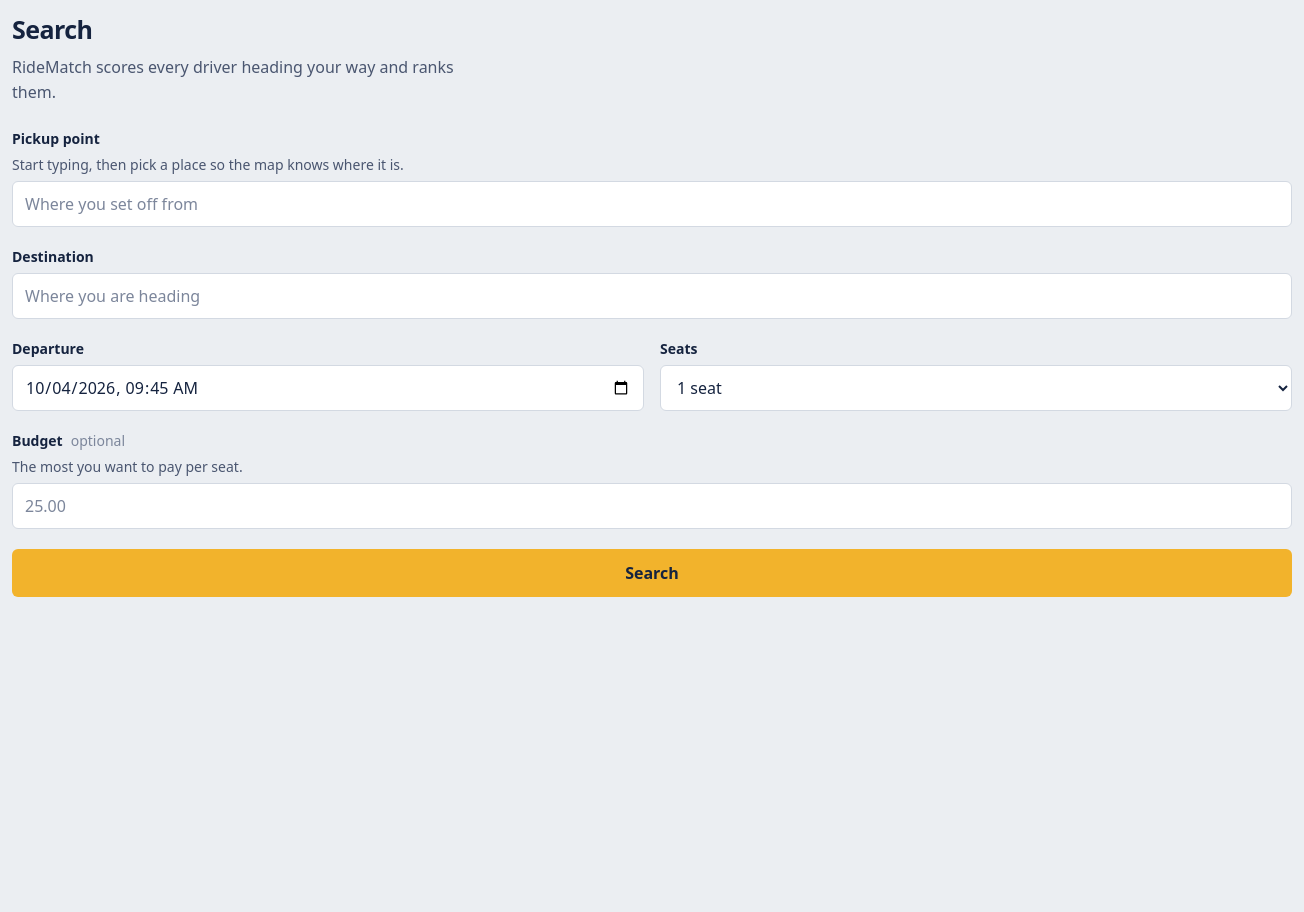
searching for a ride › will not search until both an address and a time are given
Click the button "Search".
click(652, 573)  # box [12,549,1292,597]
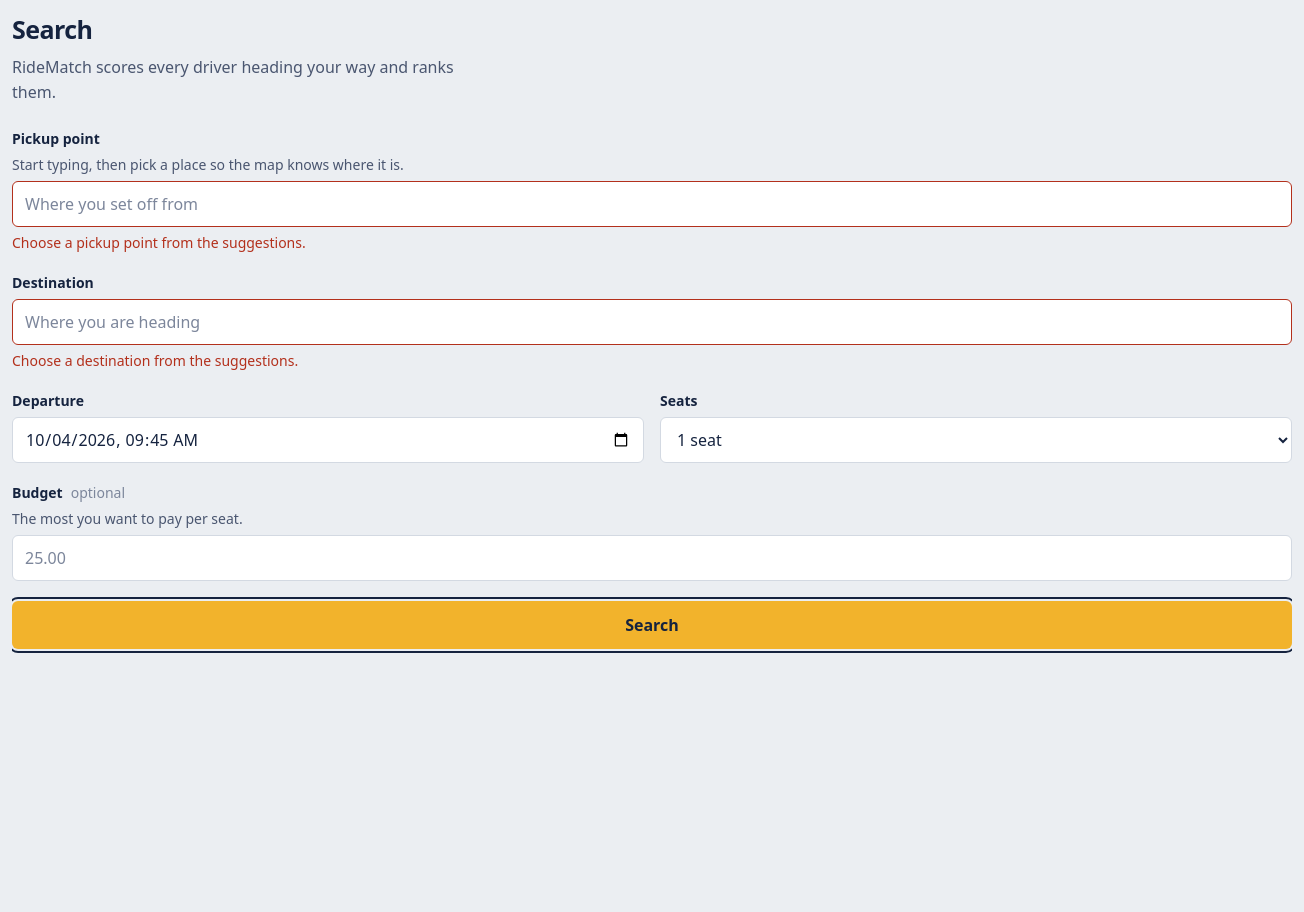
Check: the text "Choose a pickup point from the suggestions." is shown, box [12,233,306,252]
Check: the text "Choose a destination from the suggestions." is shown, box [12,351,298,370]
